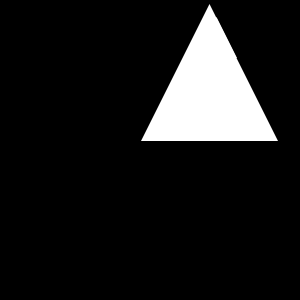triangle: (141, 4, 278, 141), (196, 17, 237, 58)
